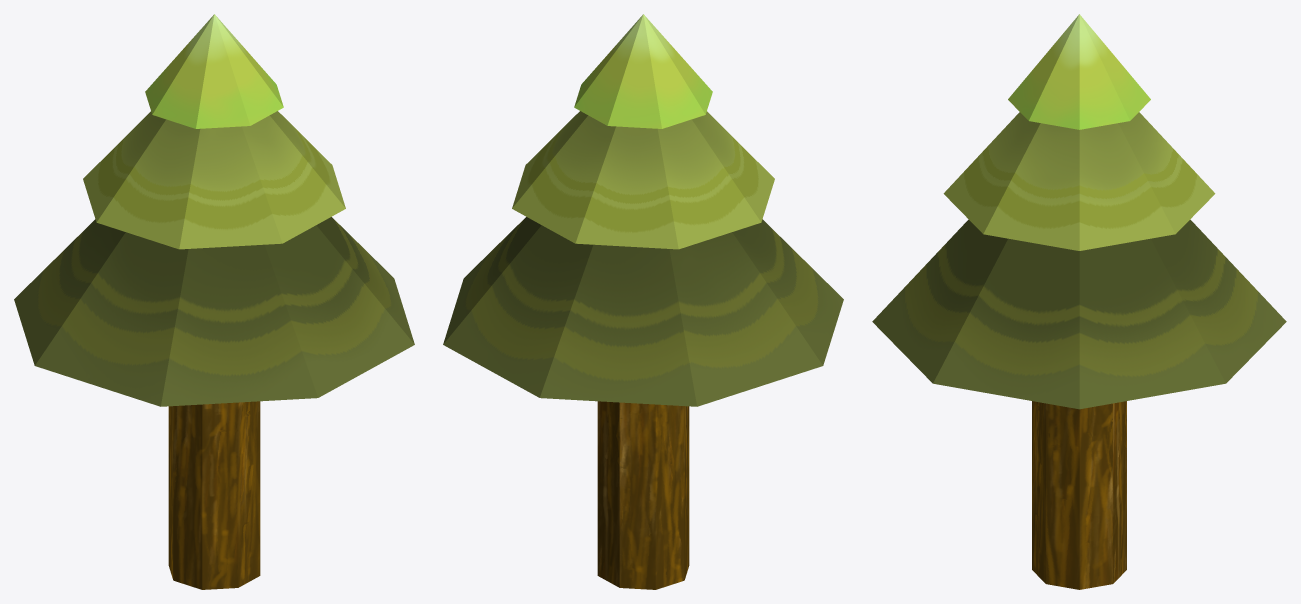
File: TreeAutumn.fbx
3 views of the same model, side by side, from view 1: azimuth 30°, elevation 25°; view 2: azimuth 150°, elevation 25°; view 3: azimuth 270°, elevation 25° (orthographic).
Visible parts, largest first — view 1: pCylinder1; view 2: pCylinder1; view 3: pCylinder1.
Boxes of the visible parts, x1=… form: pCylinder1: x1=14, y1=14, x2=414, y2=589; pCylinder1: x1=443, y1=14, x2=843, y2=589; pCylinder1: x1=872, y1=14, x2=1286, y2=589.
Bounding box in the file's own units: 8.74 × 12.93 × 8.74.
1 material, 1 textured.
